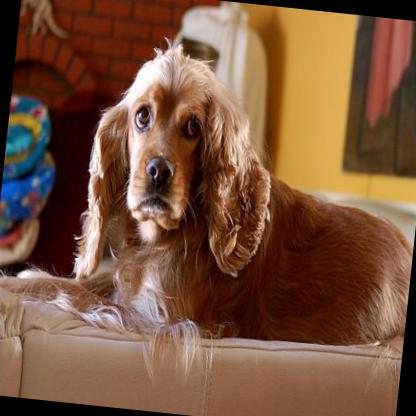cocker_spaniel: (68, 32, 416, 349)
